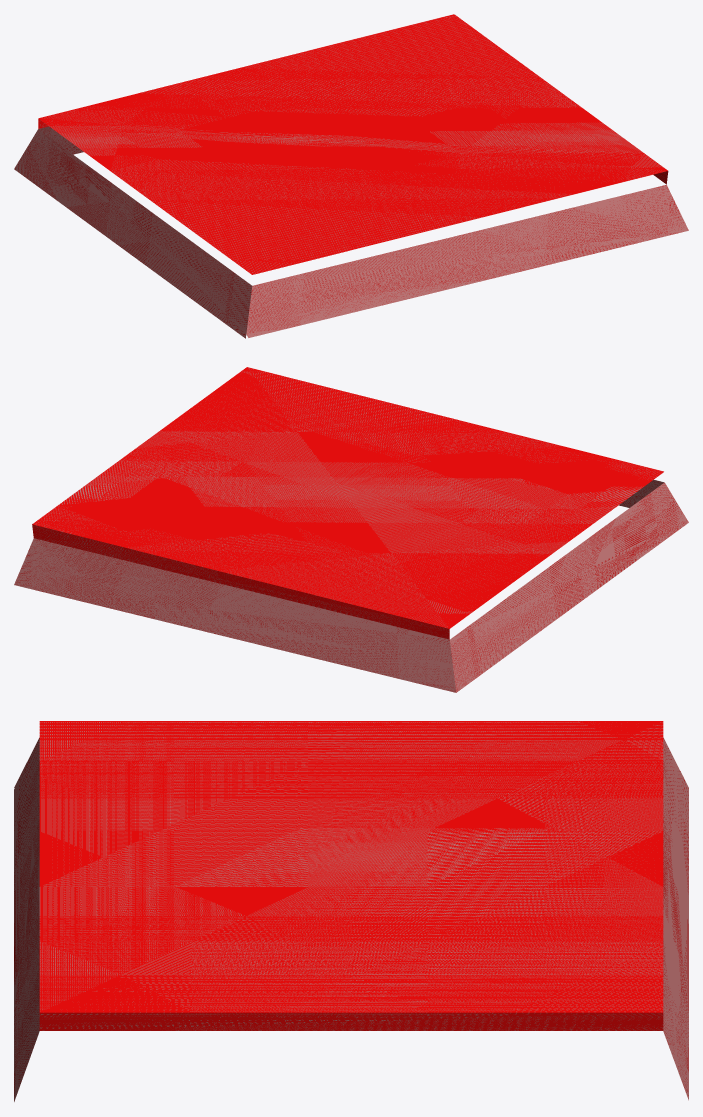
The model's file is original-40.obj.
3 renders of one model, top to bottom at view 1: azimuth 30°, elevation 25°; view 2: azimuth 150°, elevation 25°; view 3: azimuth 270°, elevation 25°, orthographic. The views are drawn at different scales.
Parts seen in each view (by area): view 1: tus38/tus/mesh1/mesh1-geometry#mesh1-geometry; view 2: tus38/tus/mesh1/mesh1-geometry#mesh1-geometry; view 3: tus38/tus/mesh1/mesh1-geometry#mesh1-geometry.
Part boxes in pixels (x1,y1,x2,y2): tus38/tus/mesh1/mesh1-geometry#mesh1-geometry: [14, 14, 688, 338]; tus38/tus/mesh1/mesh1-geometry#mesh1-geometry: [14, 367, 688, 692]; tus38/tus/mesh1/mesh1-geometry#mesh1-geometry: [14, 721, 688, 1101].
Bounding box in the file's own units: 0.0476 × 0.00578 × 0.0432.
